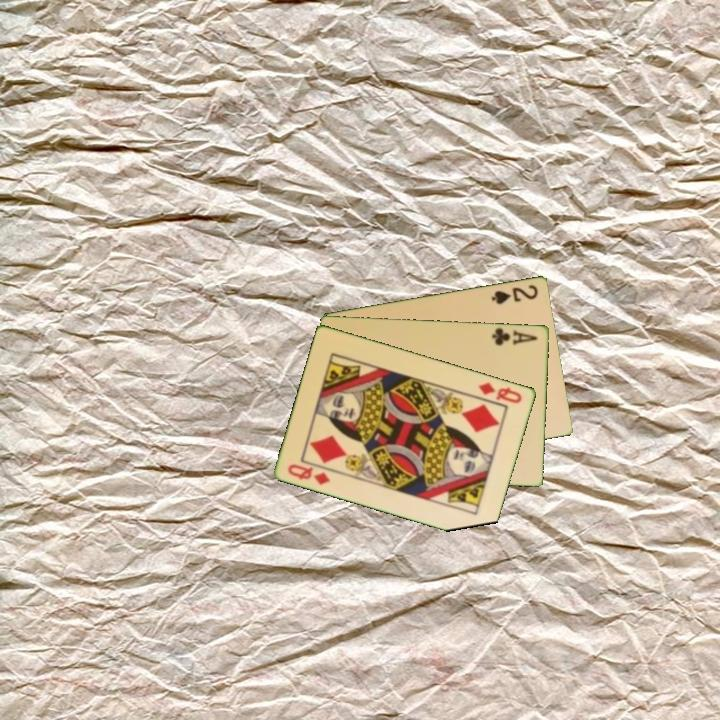2s: (488, 281, 541, 307)
Ac: (489, 324, 540, 348)
Qd: (475, 378, 525, 406), (284, 460, 334, 488)
